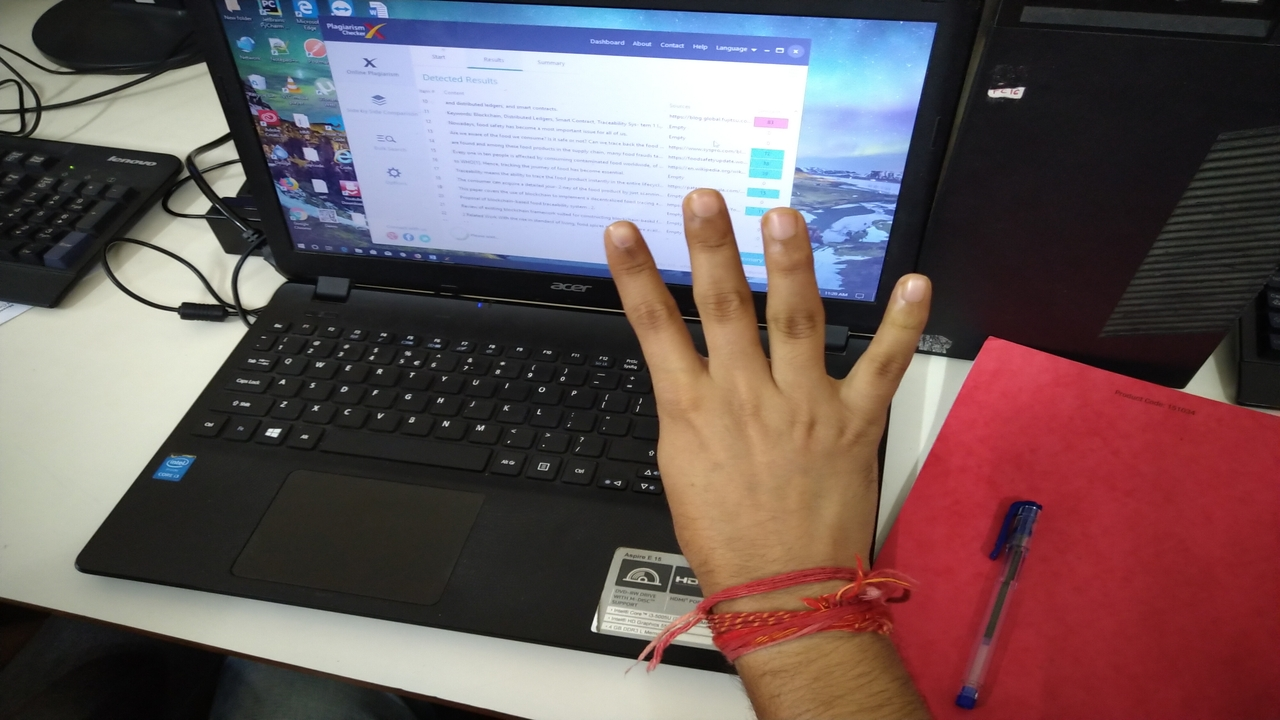fingertip: (884, 264, 942, 320), (756, 198, 814, 250), (676, 180, 736, 228), (598, 214, 650, 264)
